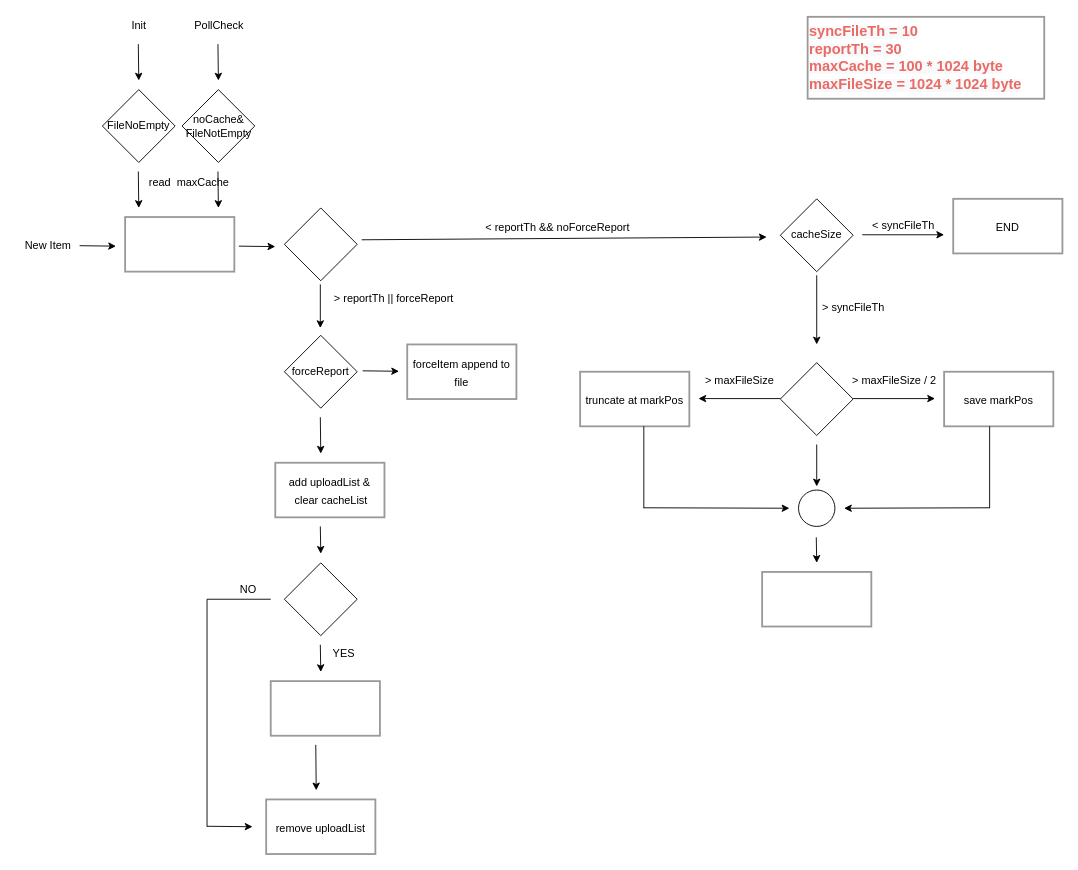
This 1078x870 diagram has some shape labels left out. Each missing label, with the centre of its shape:
"add cacheList" belongs at [179,244].
"append file" belongs at [816,599].
"cacheSize/ forceReport" belongs at [320,244].
"fileSize" belongs at [816,398].
"remve content in file" belongs at [324,708].
"uploadOk" belongs at [320,599].
